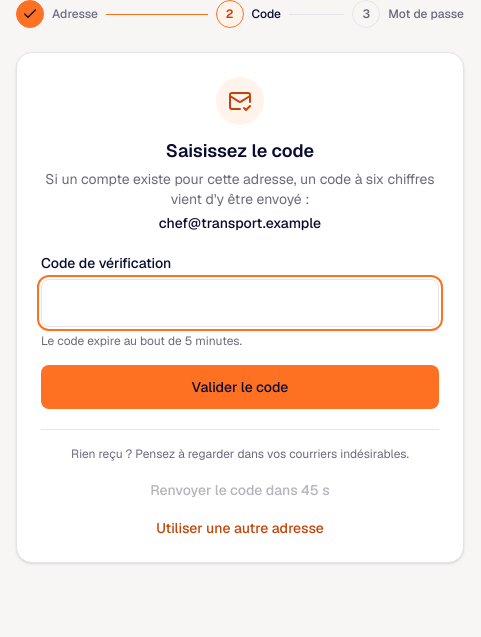
Scenario: ForgotPasswordFlow › affiche un code erroné sans quitter l'étape
In the field labelled "Code de vérification": (240, 303) [41, 279, 439, 327], type "428913"
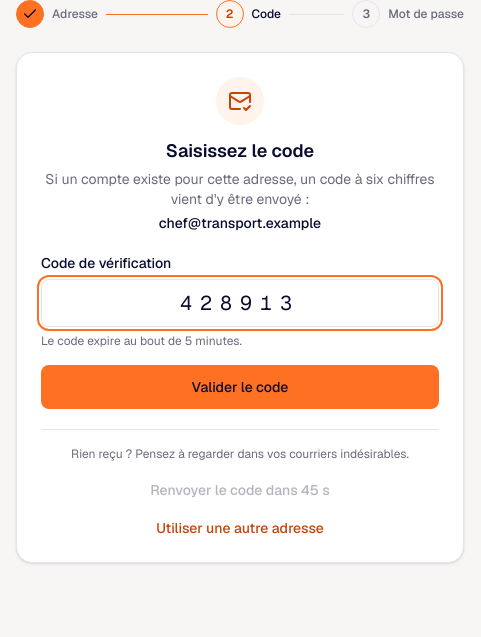
Click the button "Valider le code": (240, 387) [41, 365, 439, 409]
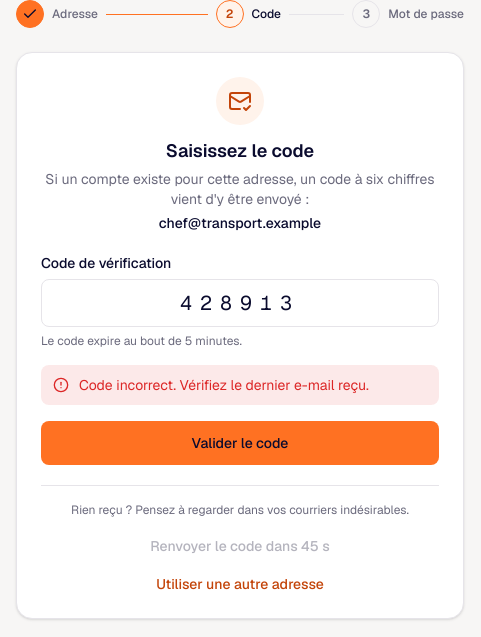
Expected: the heading "Saisissez le code" is shown, [166, 137, 314, 165]
Result: the text "Code incorrect. Vérifiez le dernier e-mail reçu." is shown at [79, 375, 369, 395]
